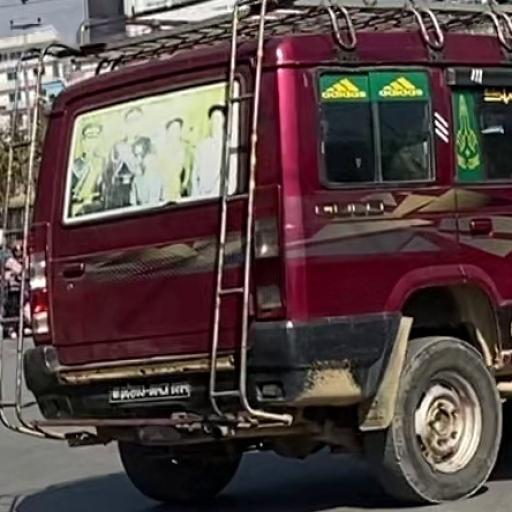license_plate: (103, 376, 198, 405)
